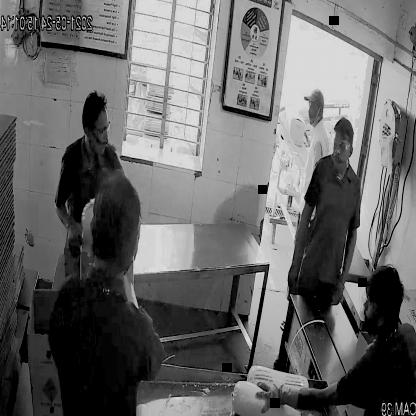goggles: (331, 138, 356, 156)
